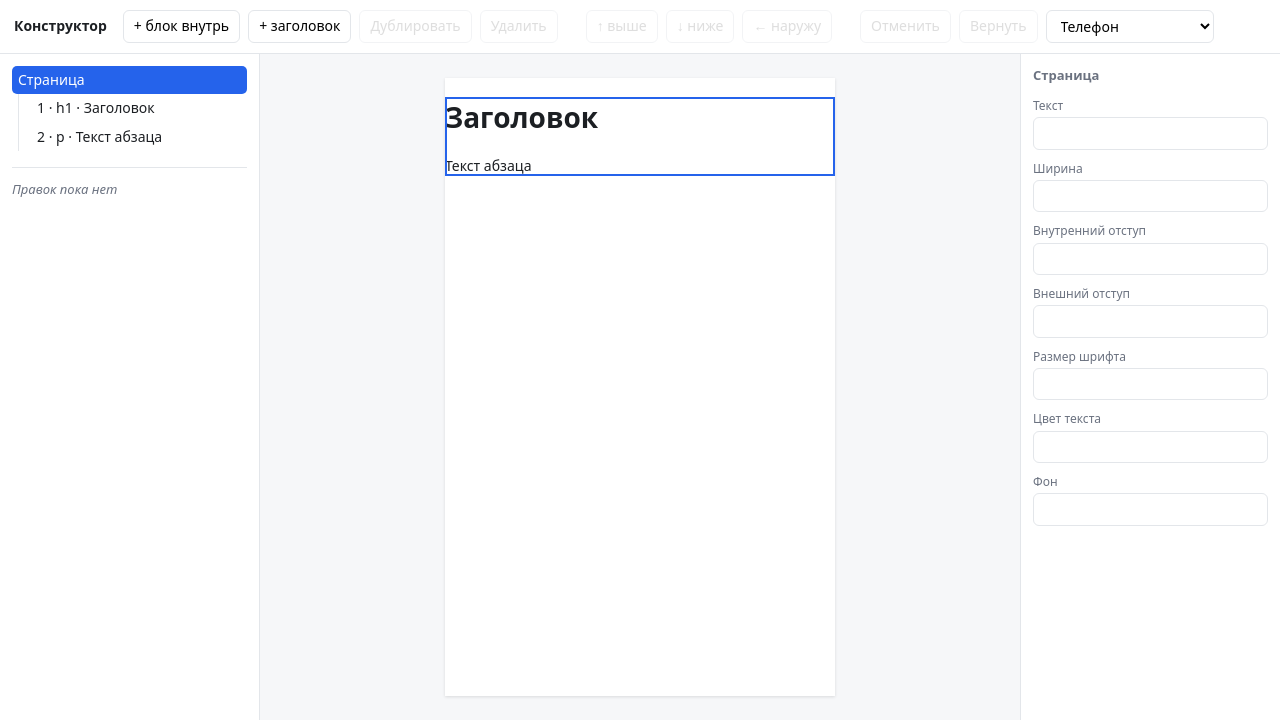
редактор целиком › добавленный блок появляется и на холсте, и в дереве
The image size is (1280, 720).
Click the button "+ заголовок": (300, 26) [248,10,351,43]
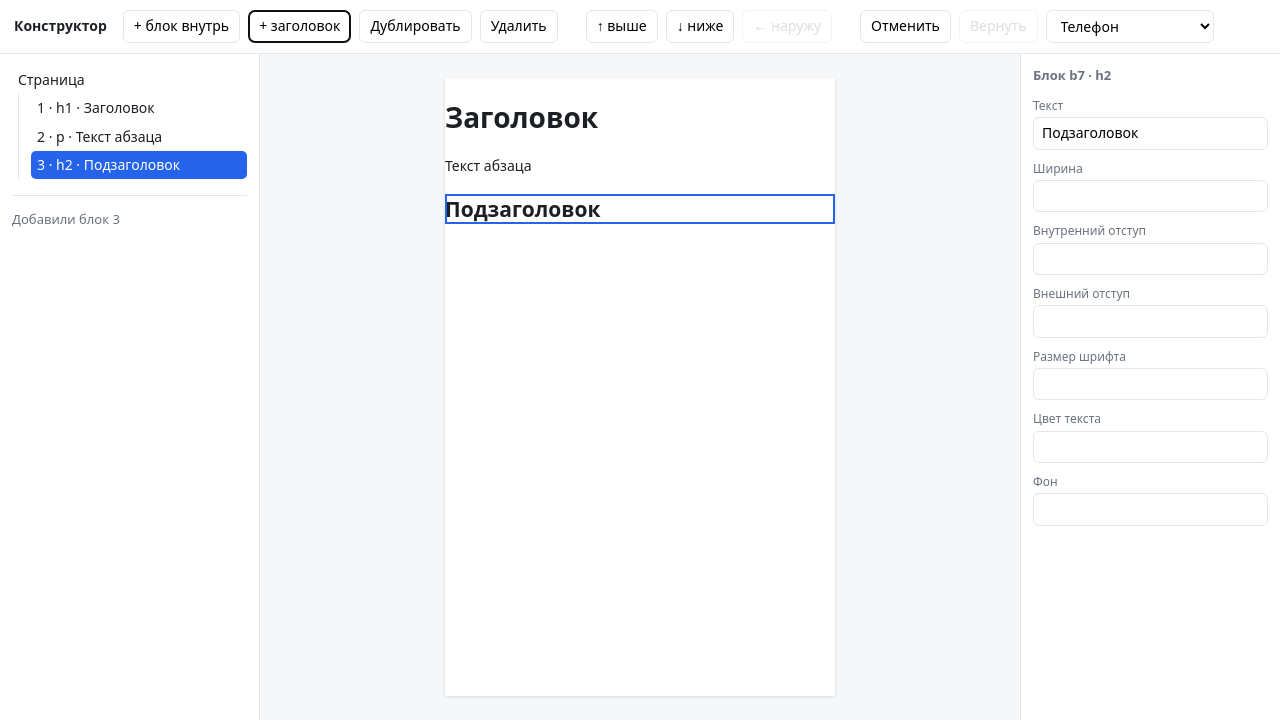
Expected: the heading "Подзаголовок" is shown, [445,195,600,223]
